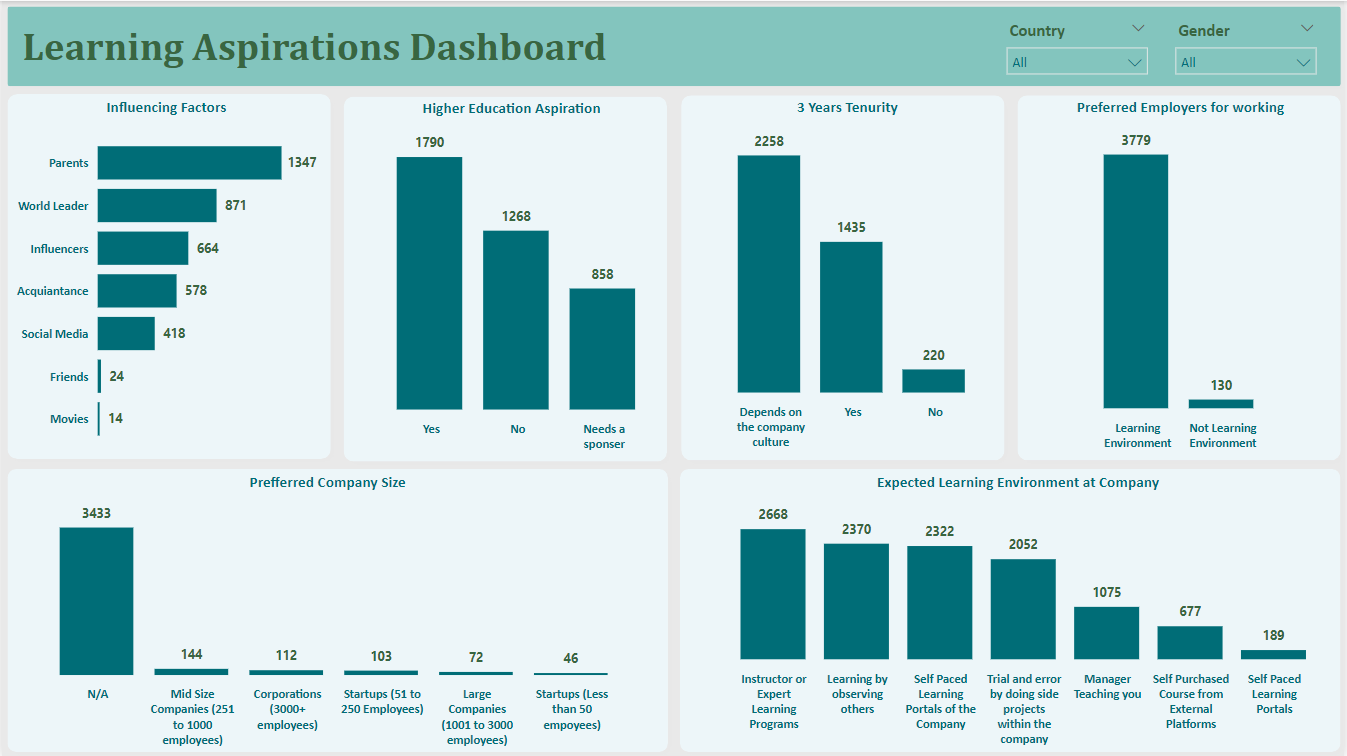

The dashboard page shown, as its layout file describes it:
{"tool":"powerbi","page":{"name":"Learning Aspiration","canvas":[1280,720],"ordinal":1},"visuals":[{"type":"shape","box":[320.7,85.7,318.4,358.1],"z":0},{"type":"shape","box":[641.2,85.1,318.4,358.1],"z":1000},{"type":"shape","box":[961.6,85.1,318.4,358.1],"z":2000},{"type":"shape","box":[0,440.5,639.5,279.9],"z":3000},{"type":"shape","box":[640.8,440.5,639.5,279.9],"z":4000},{"type":"shape","box":[0.3,83.2,318.4,358.1],"z":5000},{"type":"shape","box":[0,0,1280.3,86.4],"z":6000},{"type":"clusteredBarChart","title":"Influencing Factors","fields":{"Category":["Form responses 1.Influencing Factors"],"Y":["Count(Form responses 1.Respond Id)"]},"box":[8.2,91.9,296.4,344.4],"z":7000},{"type":"columnChart","title":"Higher Education Aspiration","fields":{"Category":["Form responses 1.Higher Education Aspiration"],"Y":["Count(Form responses 1.Respond Id)"]},"box":[326.6,93.3,318.4,344.4],"z":8000},{"type":"slicer","fields":{"Values":["Form responses 1.Gender"]},"box":[1107.1,12.9,154.8,65.5],"z":9000},{"type":"slicer","fields":{"Values":["Form responses 1.Country"]},"box":[946.4,12.9,154.8,65.5],"z":10000},{"type":"textbox","box":[14.3,16.7,606,53.6],"z":11000},{"type":"columnChart","title":"3 Years Tenurity","fields":{"Category":["Form responses 1.3 Years Tenurity"],"Y":["Count(Form responses 1.Respond Id)"]},"box":[653.2,91.9,303.3,344.4],"z":12000},{"type":"columnChart","title":"Prefferred Company Size","fields":{"Category":["Form responses 1.Prefferred Company Size"],"Y":["Count(Form responses 1.Respond Id)"]},"box":[0,448.7,620.2,270.3],"z":13000},{"type":"columnChart","title":"Expected Learning Environment at Company","fields":{"Category":["Form responses 1.Learning Environment"],"Y":["Count(Form responses 1.Respond Id)"]},"box":[654.5,448.7,625.7,270.3],"z":14000},{"type":"columnChart","title":"Preferred Employers for working","fields":{"Category":["Form responses 1.Preferred Employers for working"],"Y":["Count(Form responses 1.Respond Id)"]},"box":[971.5,91.9,301.9,344.4],"z":15000}]}

Visuals, with their boxes in screenshot pixels (x1, y1, x2, y2), scaled from the page's 1280x720 canvas onto the 1347x756 screenshot:
shape: {"x1": 337, "y1": 90, "x2": 673, "y2": 466}
shape: {"x1": 675, "y1": 89, "x2": 1010, "y2": 465}
shape: {"x1": 1012, "y1": 89, "x2": 1346, "y2": 465}
shape: {"x1": 0, "y1": 463, "x2": 673, "y2": 755}
shape: {"x1": 674, "y1": 463, "x2": 1346, "y2": 755}
shape: {"x1": 0, "y1": 87, "x2": 335, "y2": 463}
shape: {"x1": 0, "y1": 0, "x2": 1346, "y2": 91}
"Influencing Factors" clusteredBarChart: {"x1": 9, "y1": 96, "x2": 321, "y2": 458}
"Higher Education Aspiration" columnChart: {"x1": 344, "y1": 98, "x2": 679, "y2": 460}
slicer - Form responses 1.Gender: {"x1": 1165, "y1": 14, "x2": 1328, "y2": 82}
slicer - Form responses 1.Country: {"x1": 996, "y1": 14, "x2": 1159, "y2": 82}
textbox: {"x1": 15, "y1": 18, "x2": 653, "y2": 74}
"3 Years Tenurity" columnChart: {"x1": 687, "y1": 96, "x2": 1007, "y2": 458}
"Prefferred Company Size" columnChart: {"x1": 0, "y1": 471, "x2": 653, "y2": 755}
"Expected Learning Environment at Company" columnChart: {"x1": 689, "y1": 471, "x2": 1346, "y2": 755}
"Preferred Employers for working" columnChart: {"x1": 1022, "y1": 96, "x2": 1340, "y2": 458}
